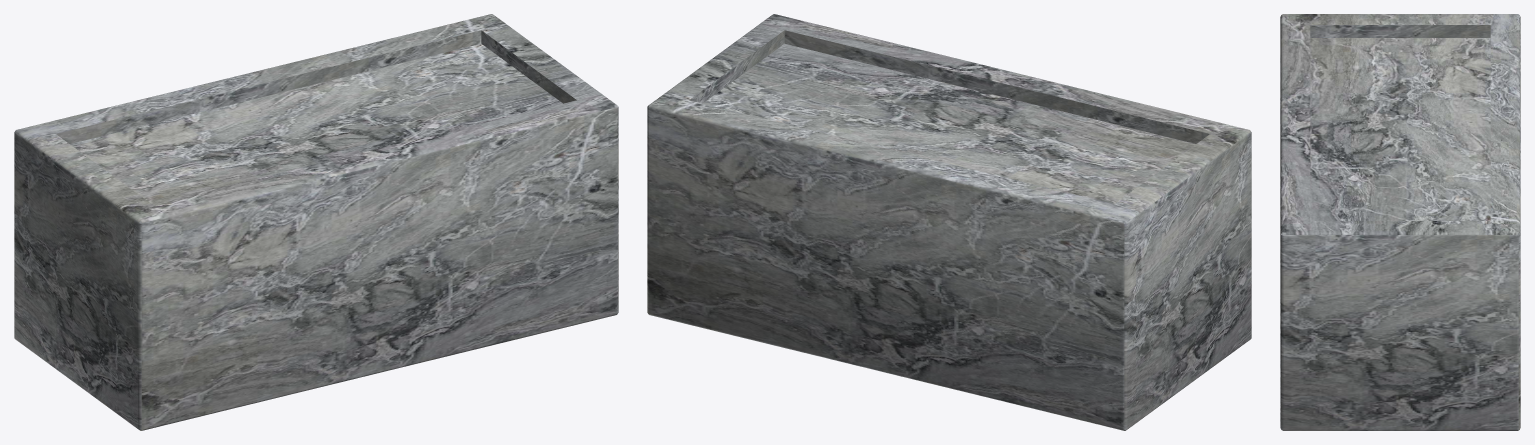
Rendered from QD-清茶桌摆件1.fbx.
3 views of the same model, side by side, from view 1: azimuth 30°, elevation 25°; view 2: azimuth 150°, elevation 25°; view 3: azimuth 270°, elevation 25° (orthographic). The views are drawn at different scales.
Parts seen in each view (by area): view 1: QD-清茶桌摆件1; view 2: QD-清茶桌摆件1; view 3: QD-清茶桌摆件1.
Boxes of the visible parts, x1,y1,x2,y2 form: QD-清茶桌摆件1: (14, 14, 618, 430); QD-清茶桌摆件1: (647, 14, 1251, 430); QD-清茶桌摆件1: (1280, 14, 1520, 430).
Bounding box in the file's own units: 0.2098 × 0.0963 × 0.0879.
